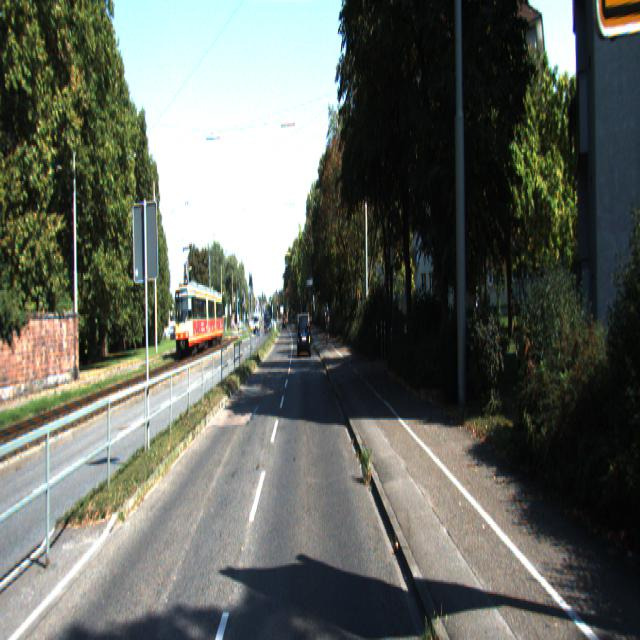Car: (174, 276, 224, 350), (298, 312, 312, 358)
